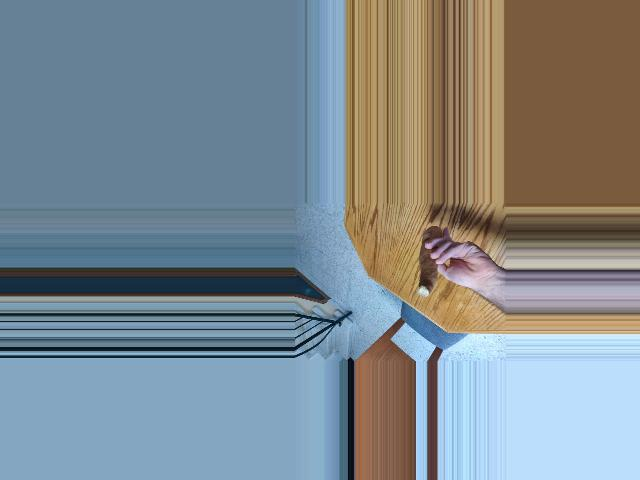sweet_potato: (418, 226, 440, 302)
